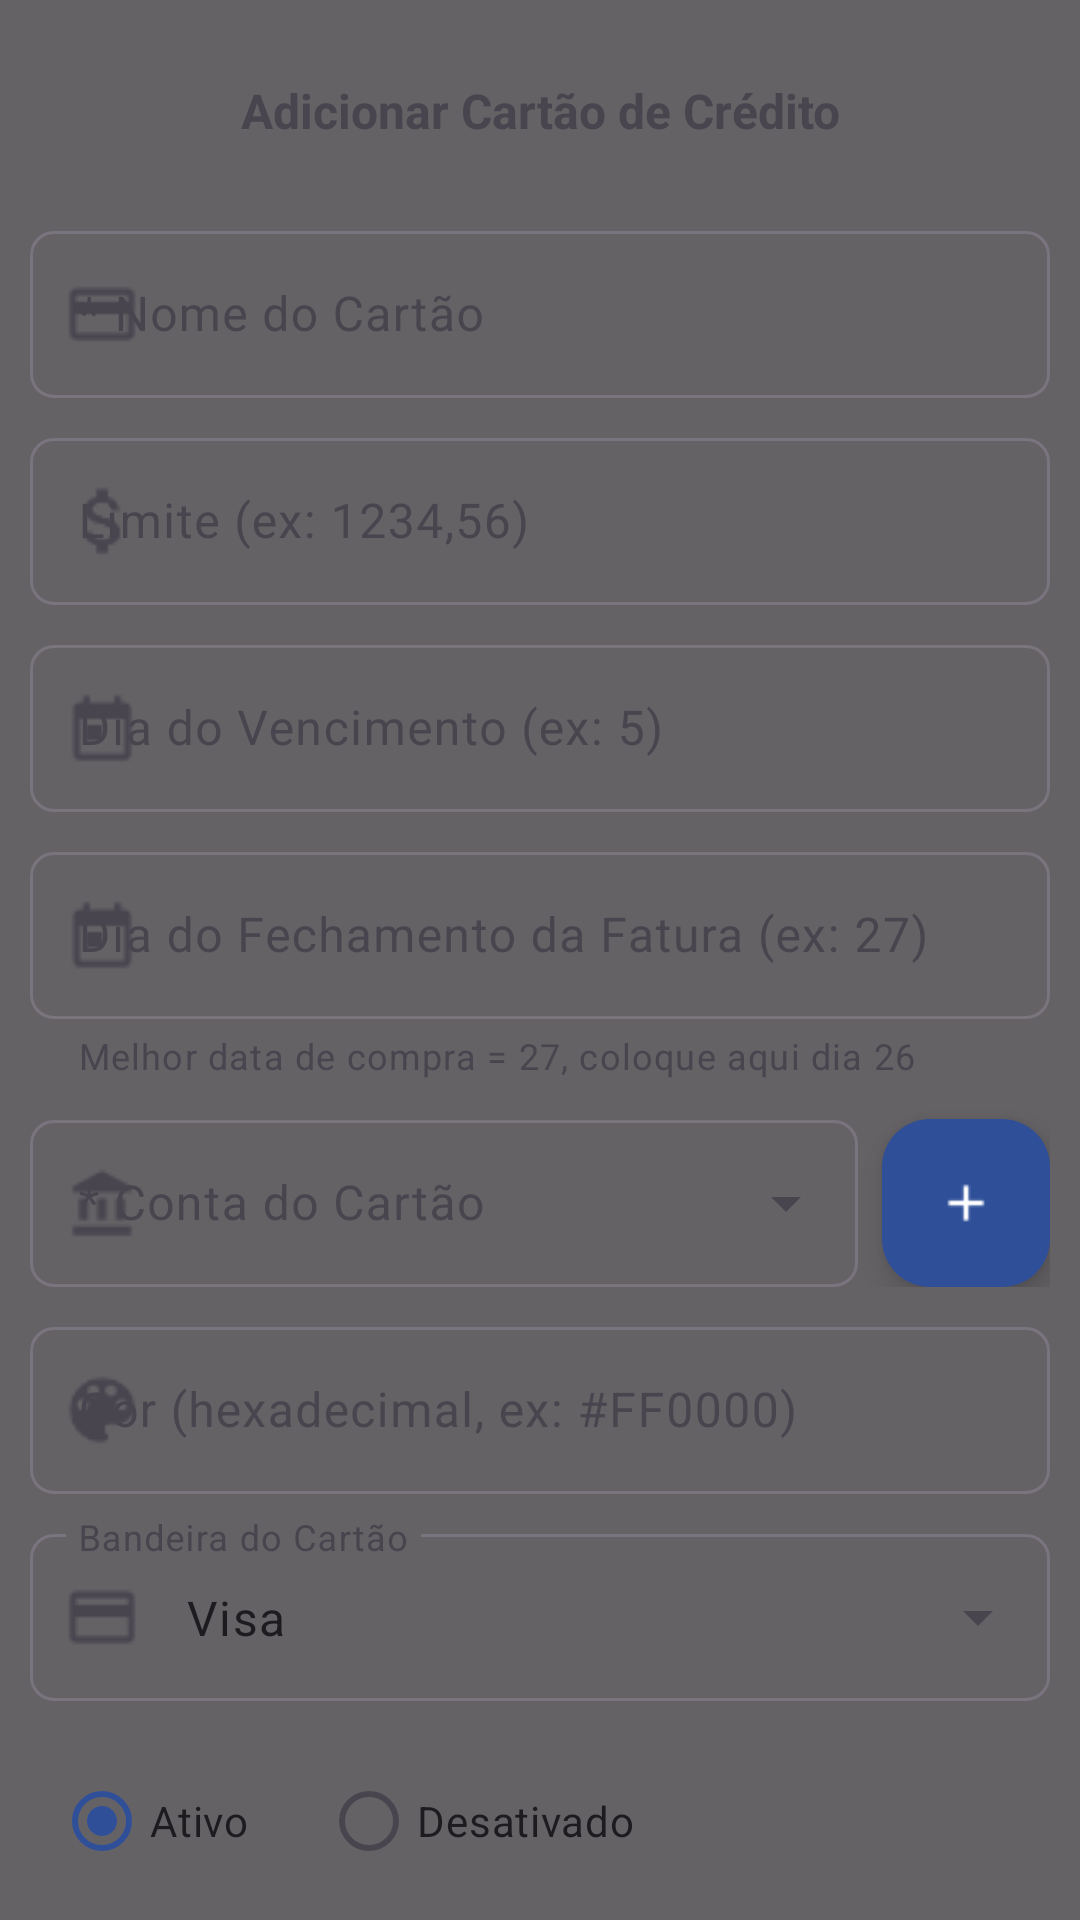

Locate icon controls on the screen. Image size 1080px×1920px, boxes as (x1, y1, x2, y2).
Adicionar Conta: (882, 1119, 1050, 1287)
